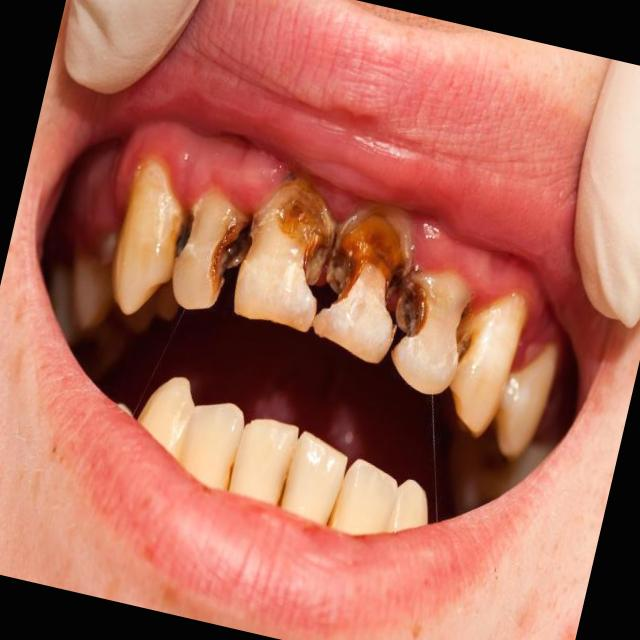caries: (306, 196, 423, 368), (227, 167, 345, 336), (384, 260, 479, 400), (164, 181, 251, 318)
